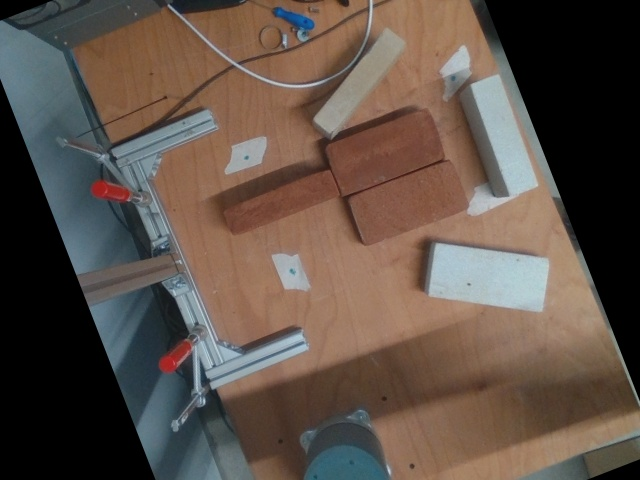brick: (325, 106, 446, 194), (348, 160, 467, 245)
brick-side: (314, 28, 405, 133), (429, 242, 549, 311), (472, 75, 539, 194), (223, 169, 337, 234)
